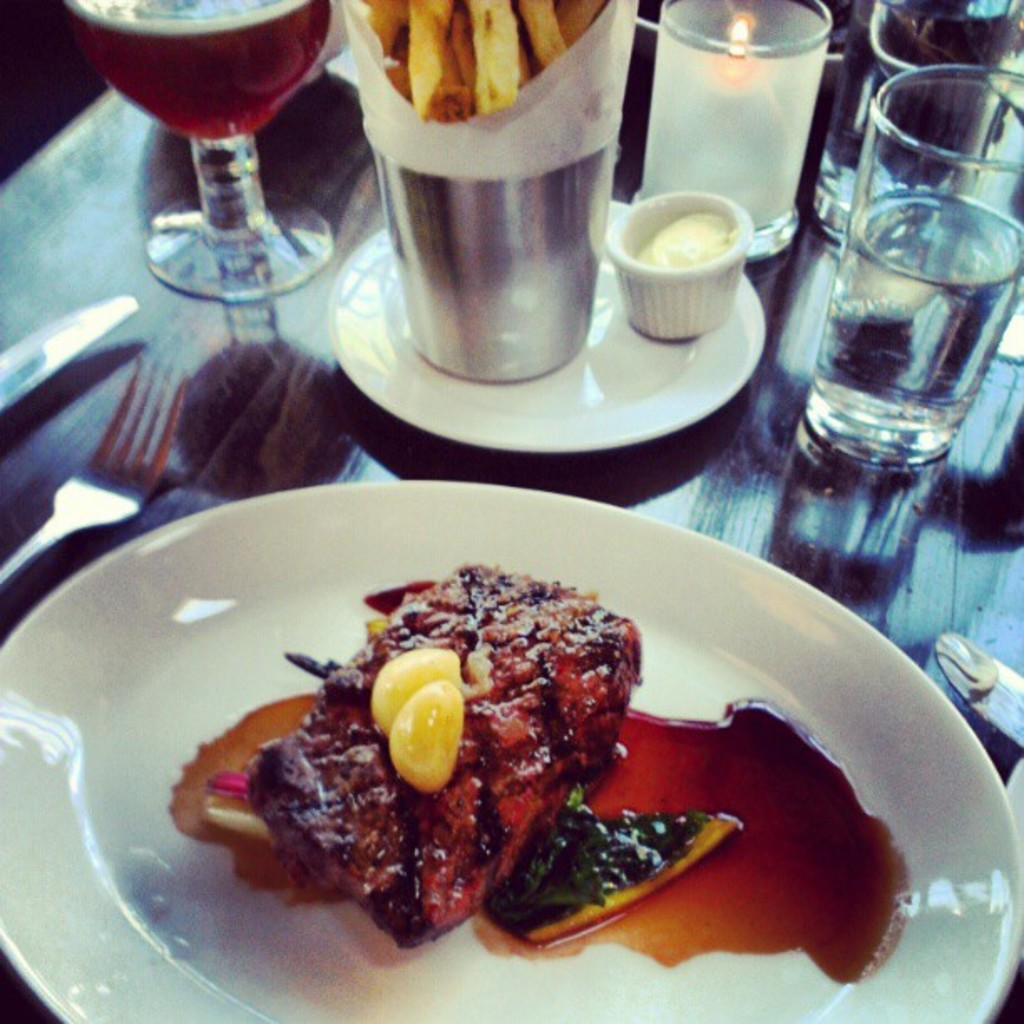French fries: (337, 0, 609, 137)
